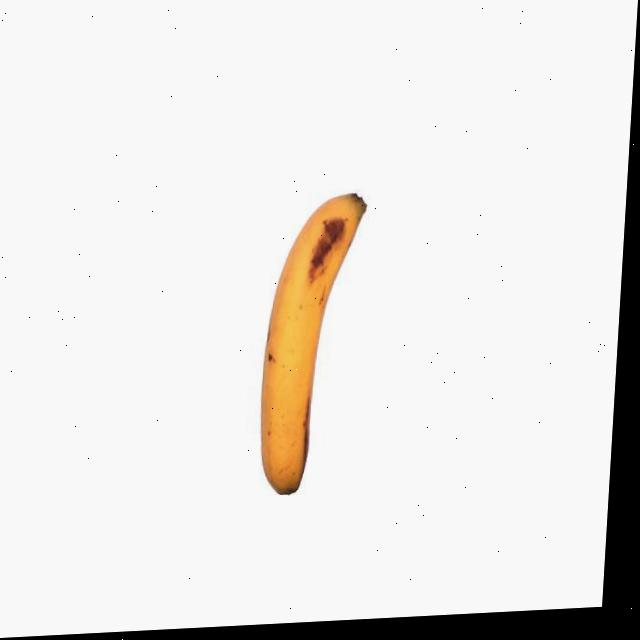banana: (246, 187, 371, 503)
